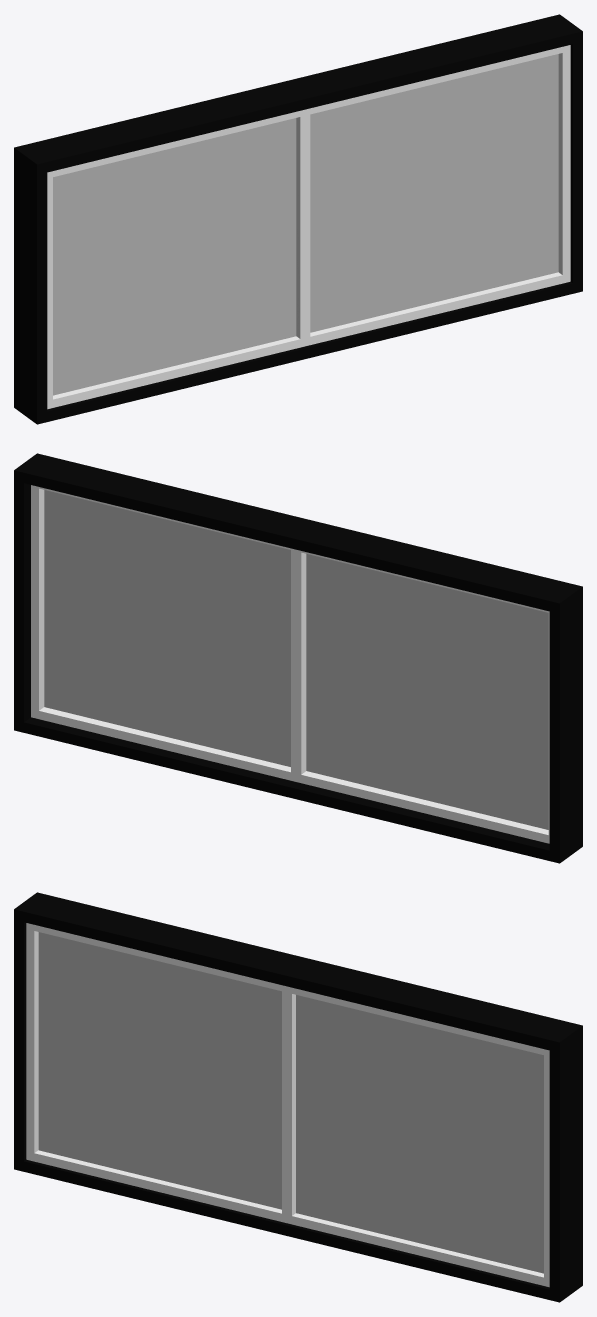
The model's file is wxB.fbx.
3 renders of one model, top to bottom at view 1: azimuth 30°, elevation 25°; view 2: azimuth 150°, elevation 25°; view 3: azimuth 330°, elevation 25°, orthographic.
Visible parts, largest first — view 1: glass, i; view 2: glass, i; view 3: glass, i.
Boxes of the visible parts, x1,y1,x2,y2 form: glass: (53,54,558,395); i: (14,14,582,424); glass: (44,490,548,829); i: (14,453,582,863); glass: (38,932,543,1273); i: (14,892,582,1302).
Bounding box in the file's own units: 27.21 × 12.39 × 2.
